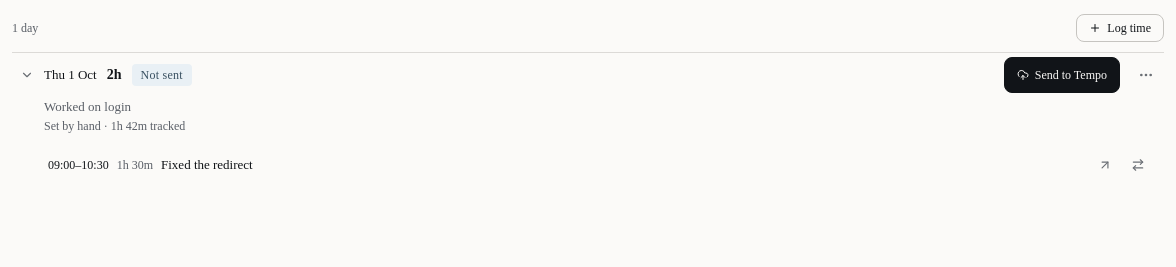
Test: Use tracked time › shows Jira's refusal inline
What coordinates should you click on to do the following:
click the button named "More for Thu 1 Oct"
I would click on:
 (1146, 75)
Its box is x1=1128 y1=57 x2=1164 y2=93.
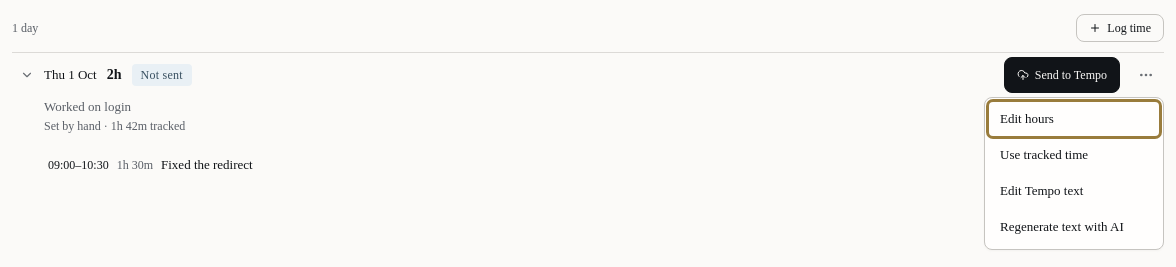
What coordinates should you click on to do the following:
click the menu item "Use tracked time"
I would click on:
 (1074, 155)
Its box is x1=989 y1=138 x2=1159 y2=172.
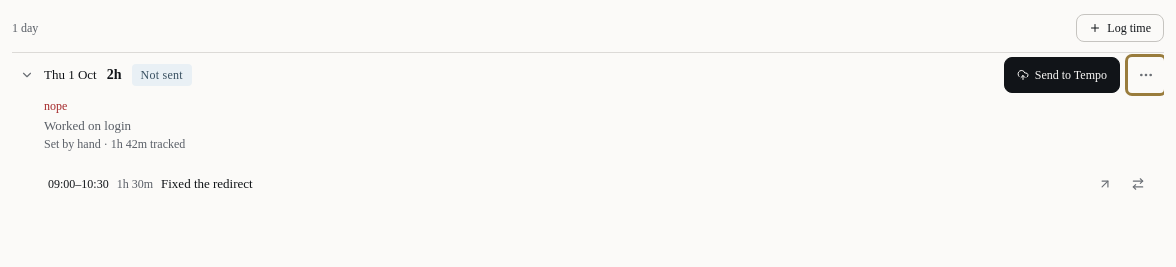
Check: the message reads "nope", box x1=44 y1=99 x2=67 y2=113
